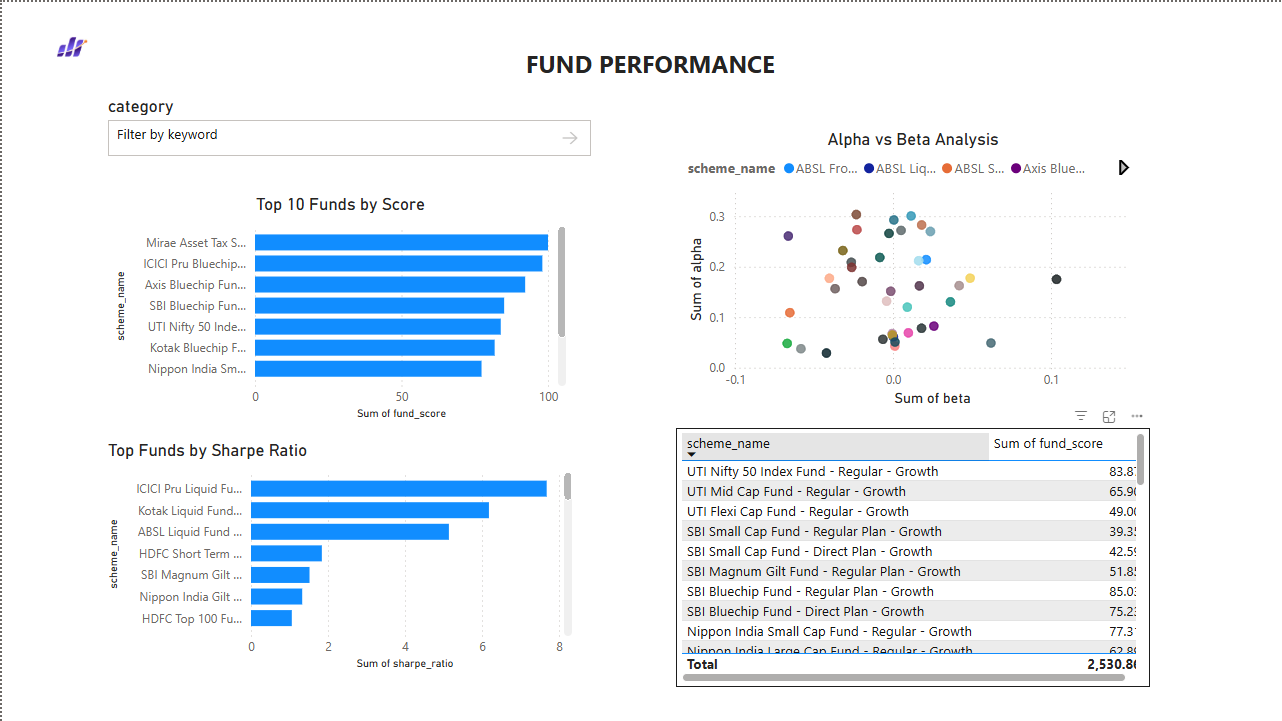

The page's visual inventory and layout, read from the dashboard file:
{"tool":"powerbi","page":{"name":"Fund Performance","canvas":[1280,720],"ordinal":1},"visuals":[{"type":"tableEx","fields":{"Values":["fund_scorecard.scheme_name","Sum(fund_scorecard.fund_score)"]},"box":[674.5,426,474,258.9],"z":0},{"type":"clusteredBarChart","title":"Top 10 Funds by Score","fields":{"Category":["fund_scorecard.scheme_name"],"Y":["Sum(fund_scorecard.fund_score)"]},"box":[107.5,192.1,461.5,229.7],"z":1000},{"type":"scatterChart","title":"Alpha vs Beta Analysis","fields":{"X":["Sum(alpha_beta.beta)"],"Y":["Sum(alpha_beta.alpha)"],"Series":["alpha_beta.scheme_name"],"Category":["alpha_beta.scheme_name"]},"box":[680.7,127.4,460.4,281.9],"z":2000},{"type":"barChart","title":"Top Funds by Sharpe Ratio","fields":{"Category":["fund_scorecard.scheme_name"],"Y":["Sum(fund_scorecard.sharpe_ratio)"]},"box":[101.3,438.5,474,233.9],"z":3000},{"type":"textSlicer","fields":{"Values":["fund_scorecard.category"]},"box":[101.3,94,492.8,63.7],"z":4000},{"type":"textbox","box":[101.3,0,6.3,31.3],"z":5000},{"type":"textbox","box":[514.7,39.7,282.9,54.3],"z":6000},{"type":"image","box":[20,20,100,50],"z":6001}]}

Visuals, with their boxes in screenshot pixels (x1, y1, x2, y2), scaled from the page's 1280x720 canvas onto the 1282x721 screenshot:
tableEx - fund_scorecard.scheme_name x Sum(fund_scorecard.fund_score): box(676, 427, 1150, 686)
"Top 10 Funds by Score" clusteredBarChart: box(108, 192, 570, 422)
"Alpha vs Beta Analysis" scatterChart: box(682, 128, 1143, 410)
"Top Funds by Sharpe Ratio" barChart: box(101, 439, 576, 673)
textSlicer - fund_scorecard.category: box(101, 94, 595, 158)
textbox: box(101, 0, 108, 31)
textbox: box(516, 40, 799, 94)
image: box(20, 20, 120, 70)
